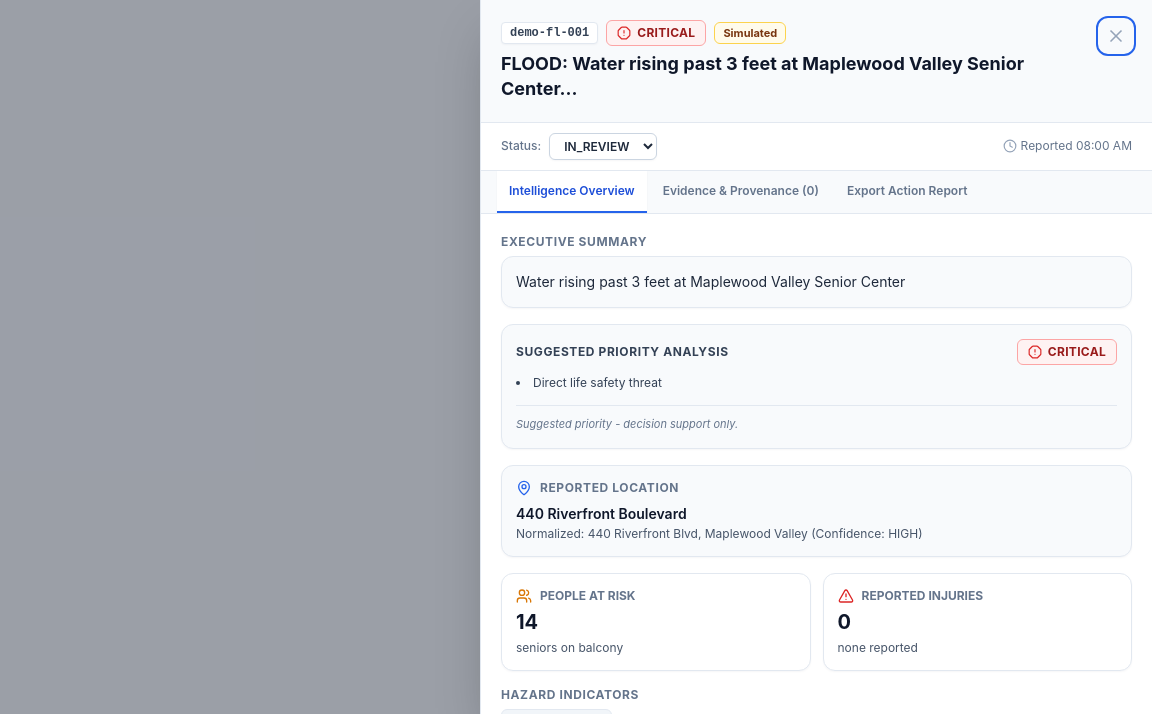
Test case: IncidentDetailDrawer — honest failure reporting › reports a failed report export instead of rendering an empty report
Click the button "Export Action Report" at (907, 192), box [835,170,979,212]
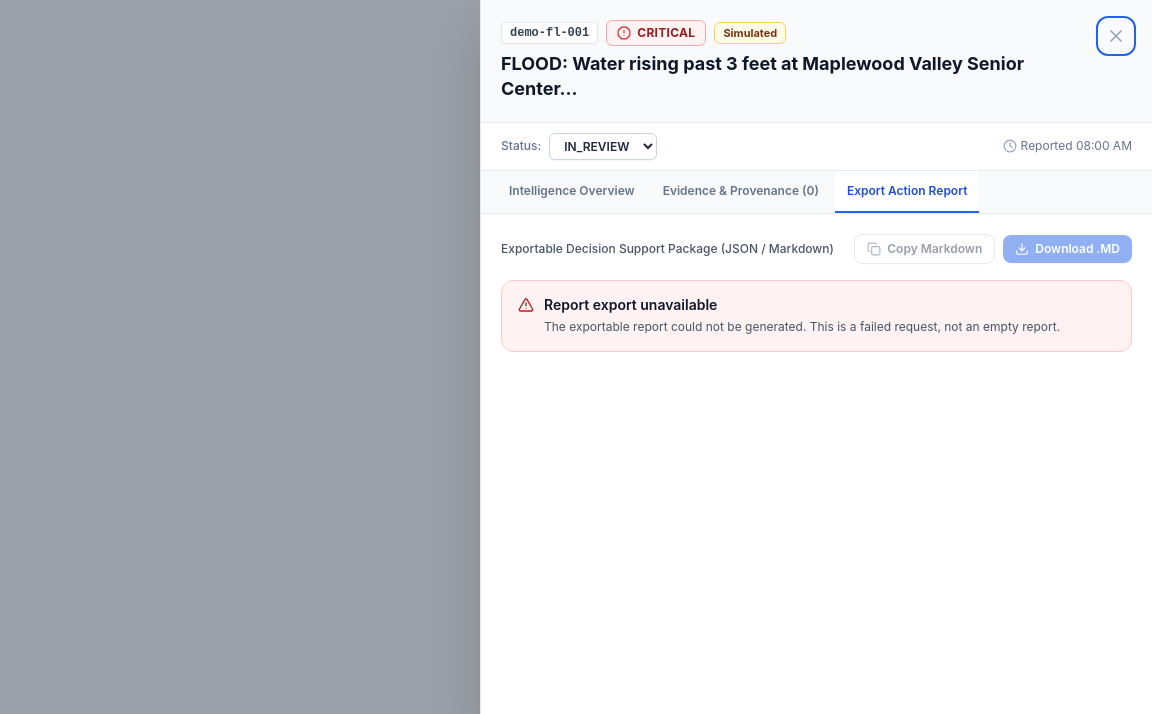
Expected: the text "Report export unavailable" is shown, [544,296,717,312]
Expected: the text "failed request, not an empty report" is shown, [544,318,1060,334]
Expected: the button "Copy Markdown" is disabled, [854,234,995,264]
